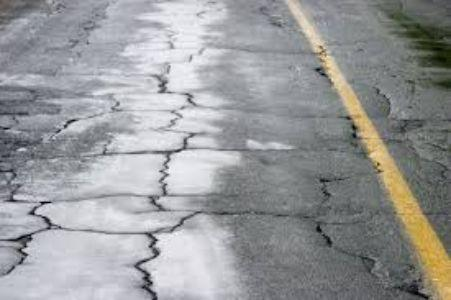alligator-crack: (2, 5, 446, 299)
